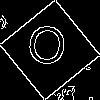O: (25, 25, 68, 74)
